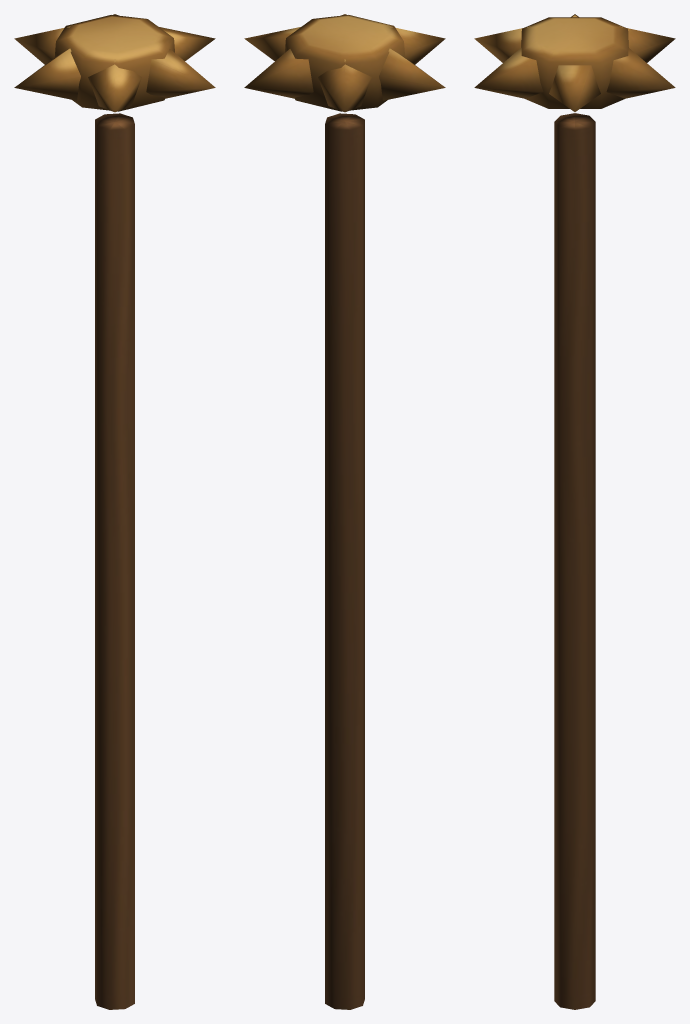
File: massue-etoile.glb
3 renders of one model, left to right at view 1: azimuth 30°, elevation 25°; view 2: azimuth 150°, elevation 25°; view 3: azimuth 270°, elevation 25°, orthographic.
Visible parts, largest first — view 1: massue-etoile; view 2: massue-etoile; view 3: massue-etoile.
Boxes of the visible parts, x1,y1,x2,y2 form: massue-etoile: (14,14,215,1009); massue-etoile: (244,14,445,1009); massue-etoile: (474,14,675,1009).
Size of the model in its own units: 0.18 by 0.825 by 0.1559.
Materials: 1 (1 with a texture image).
